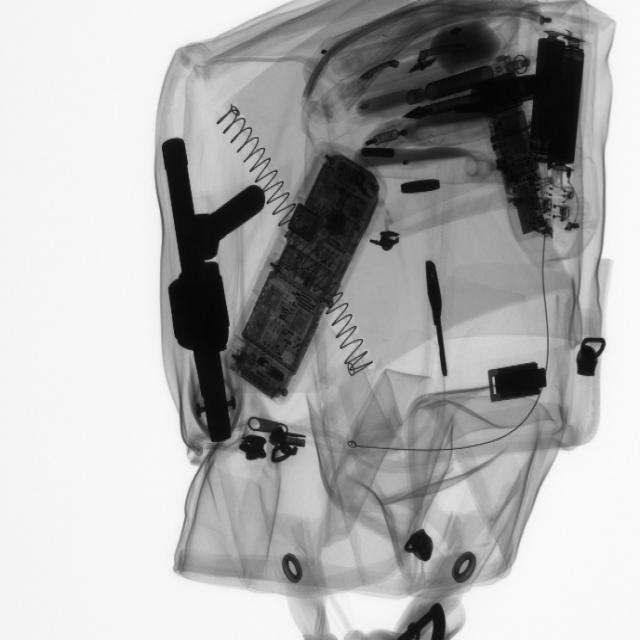GUN: (160, 135, 244, 453)
